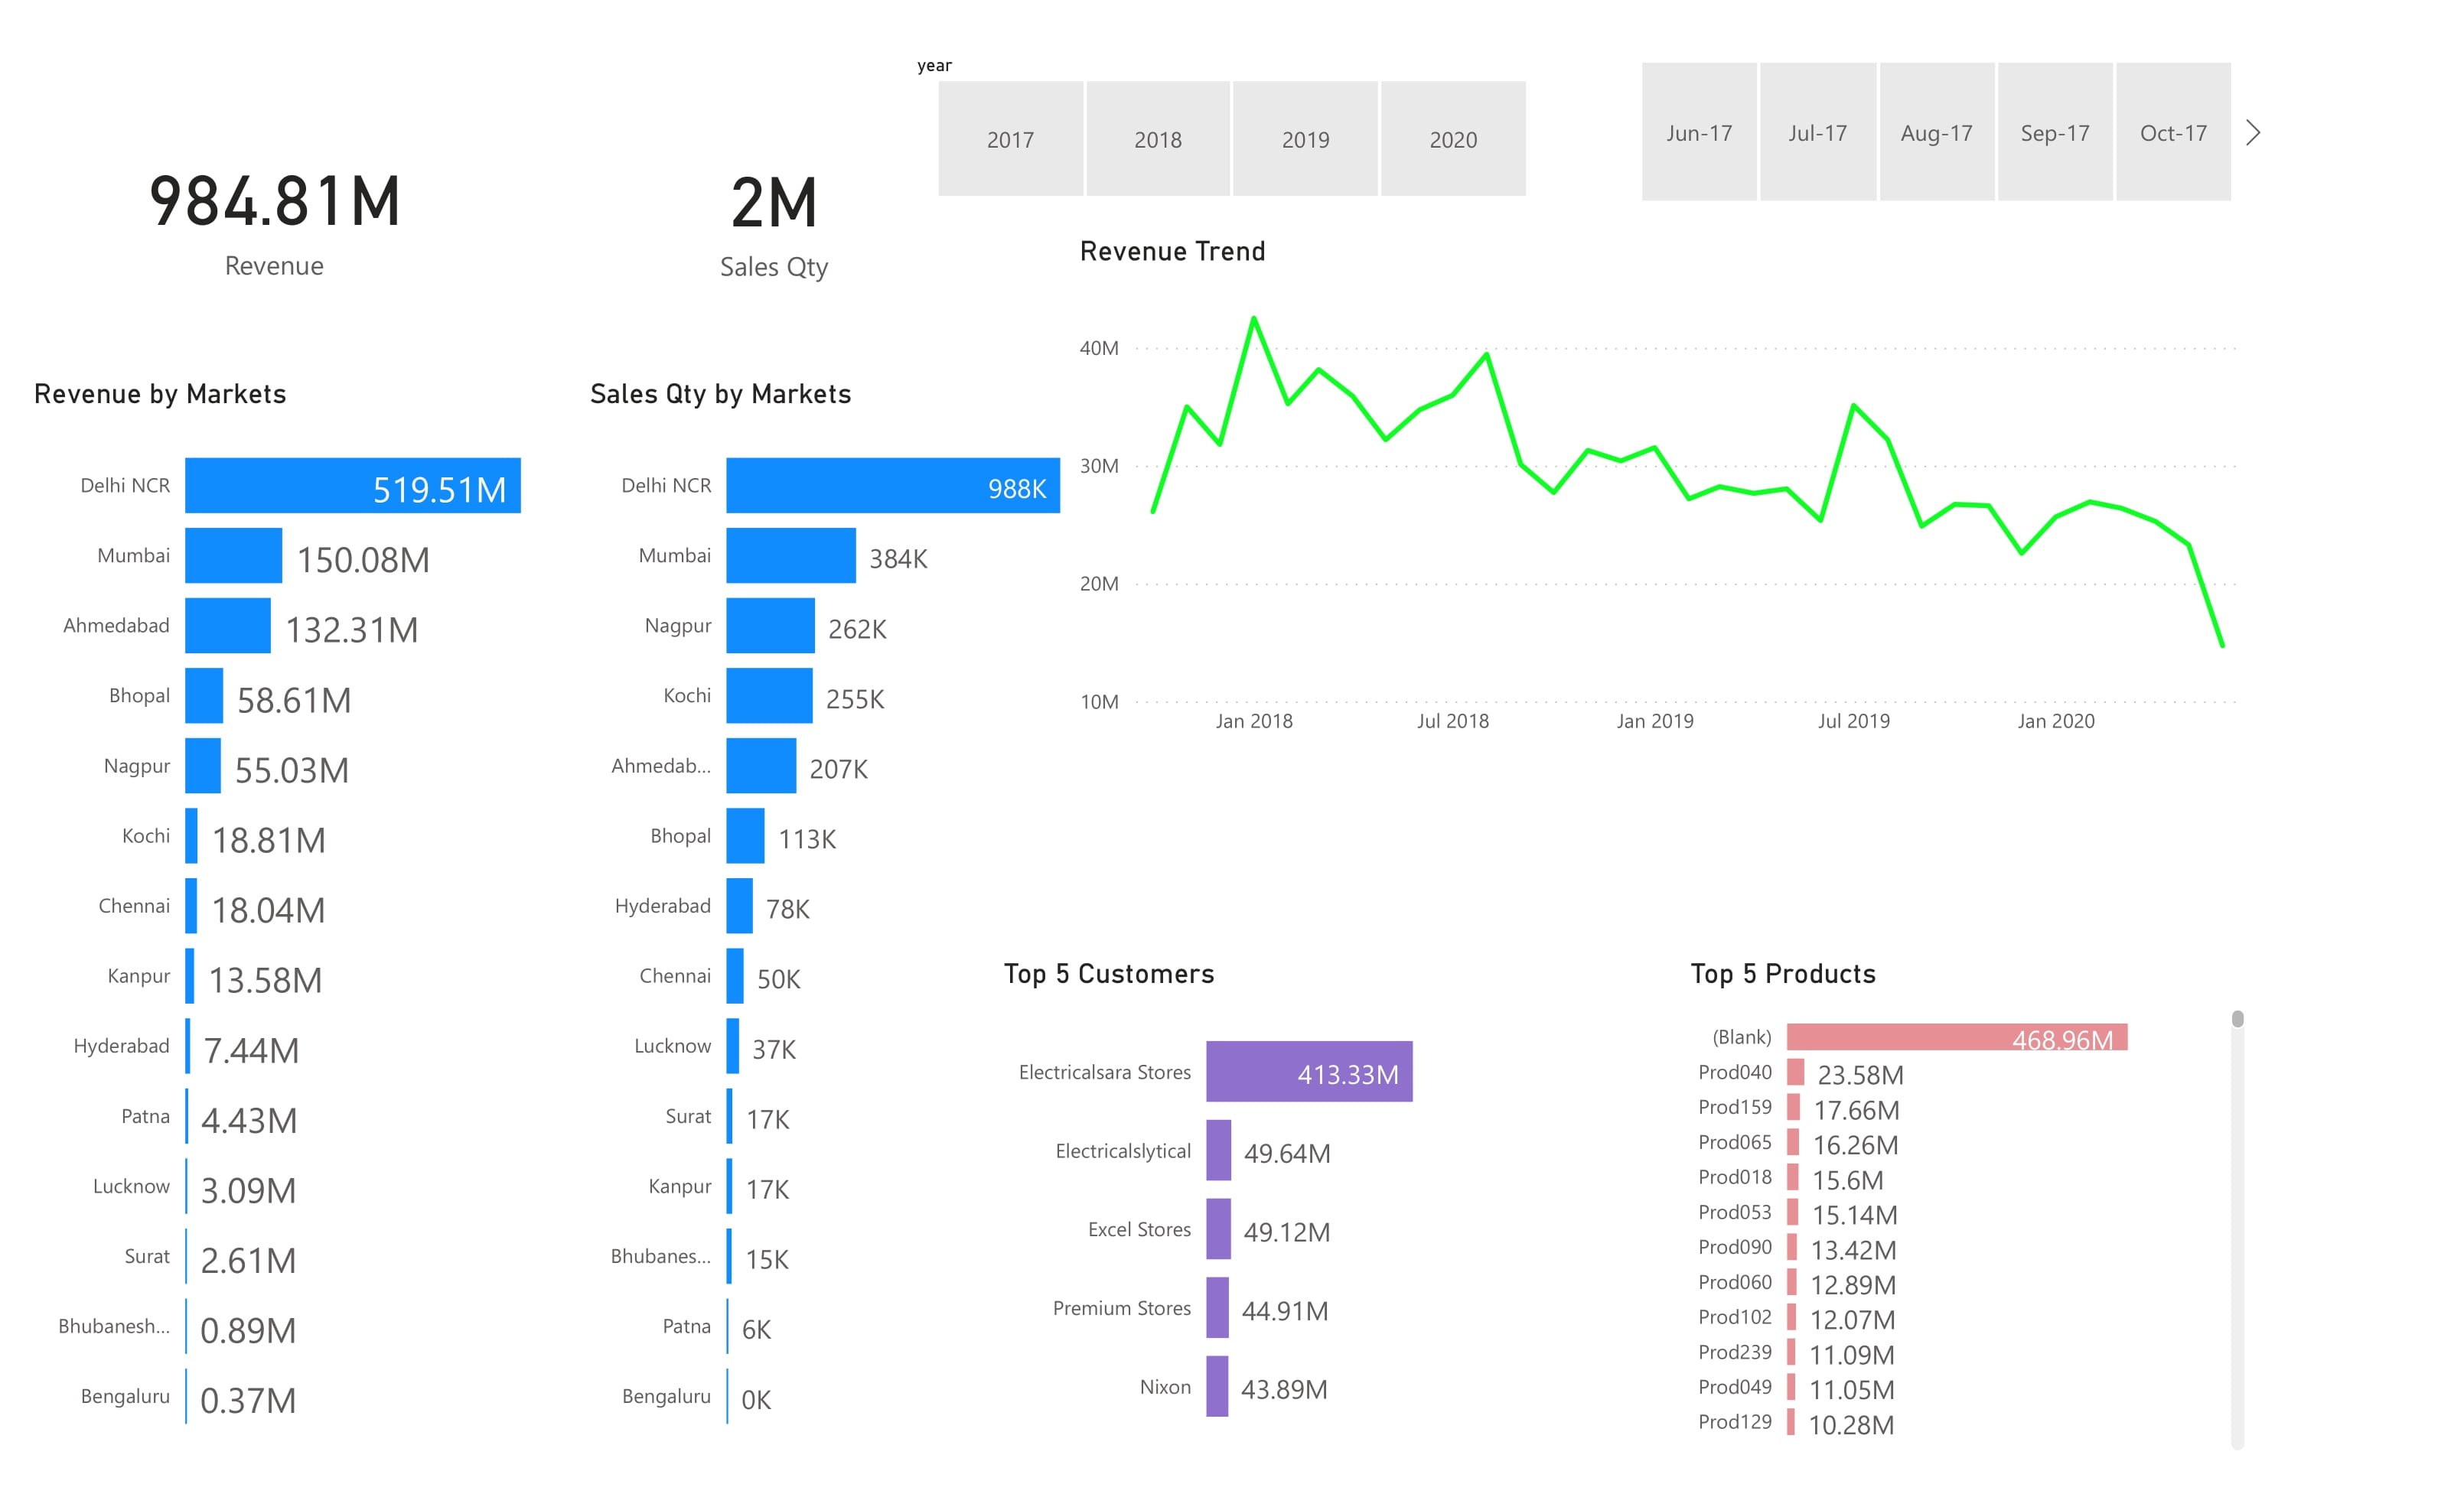

This screenshot's page, from the dashboard's own definition file:
{"tool":"powerbi","page":{"name":"Page 1","canvas":[1450,850],"ordinal":0},"visuals":[{"type":"card","fields":{"Values":["BaseMeasures.Revenue"]},"box":[0,0,299.4,197.8],"z":0},{"type":"card","fields":{"Values":["BaseMeasures.Sales Qty"]},"box":[299.8,1.4,299.8,197],"z":1000},{"type":"barChart","title":"Revenue by Markets","fields":{"Y":["BaseMeasures.Revenue"],"Category":["sales markets.markets_name"]},"box":[0,198,333.9,651.9],"z":2000},{"type":"barChart","title":"Sales Qty by Markets","fields":{"Y":["BaseMeasures.Sales Qty"],"Category":["sales markets.markets_name"]},"box":[333.9,198,294.9,651.9],"z":3000},{"type":"slicer","fields":{"Values":["sales date.year"]},"box":[522.9,0,402.9,97.1],"z":4000},{"type":"slicer","fields":{"Values":["sales date.cy_date"]},"box":[945.7,2.9,404.3,97.1],"z":5000},{"type":"barChart","title":"Top 5 Customers","fields":{"Y":["BaseMeasures.Revenue"],"Category":["sales customers.custmer_name"]},"box":[582.5,547.8,312.2,302.1],"z":6000},{"type":"barChart","title":"Top 5 Products","fields":{"Y":["BaseMeasures.Revenue"],"Category":["sales products.product_code"]},"box":[995.9,547.8,342.6,302.1],"z":7000},{"type":"lineChart","title":"Revenue Trend","fields":{"Y":["BaseMeasures.Revenue"],"Category":["sales date.cy_date"]},"box":[628.7,112.7,721.3,312.2],"z":8000}]}

Visuals, with their boxes on the page's 1450x850 design canvas (x1, y1, x2, y2). These are canvas units, not pixel positions in the 2464x1507 screenshot, which may show the page scaled, cropped or inside an application window:
card - BaseMeasures.Revenue: l=0, t=0, r=299, b=198
card - BaseMeasures.Sales Qty: l=300, t=1, r=600, b=198
"Revenue by Markets" barChart: l=0, t=198, r=334, b=850
"Sales Qty by Markets" barChart: l=334, t=198, r=629, b=850
slicer - sales date.year: l=523, t=0, r=926, b=97
slicer - sales date.cy_date: l=946, t=3, r=1350, b=100
"Top 5 Customers" barChart: l=582, t=548, r=895, b=850
"Top 5 Products" barChart: l=996, t=548, r=1338, b=850
"Revenue Trend" lineChart: l=629, t=113, r=1350, b=425
